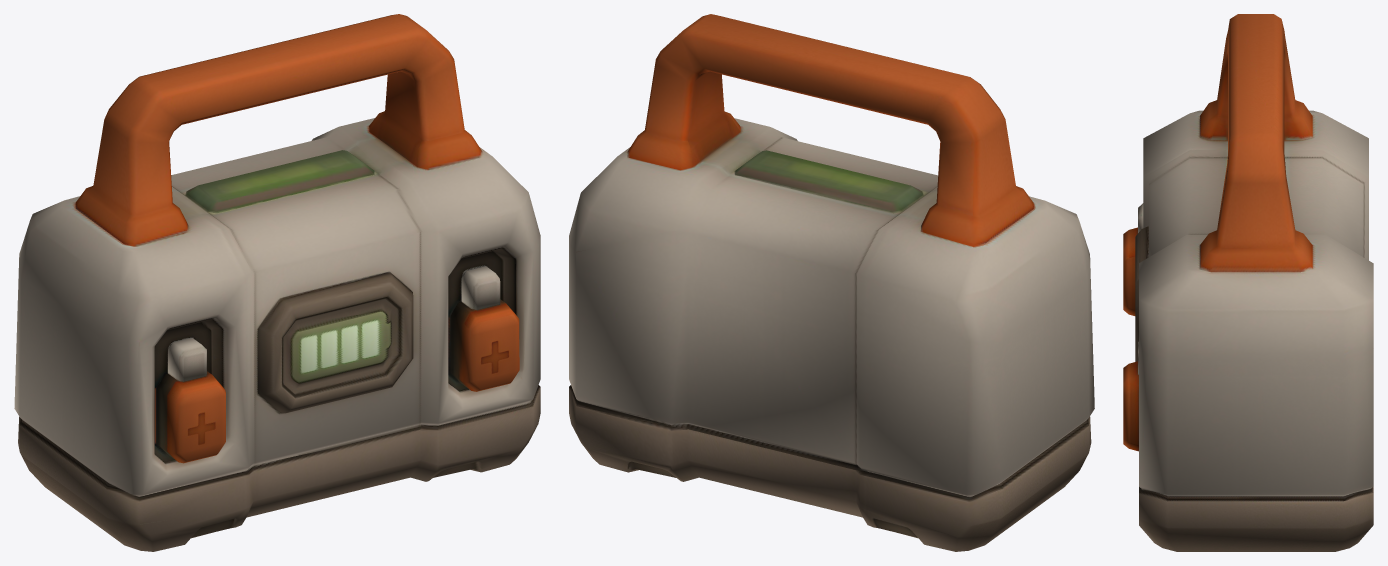
File: LSReal_PortableBattery.fbx
3 renders of one model, left to right at view 1: azimuth 30°, elevation 25°; view 2: azimuth 150°, elevation 25°; view 3: azimuth 270°, elevation 25°, orthographic. The views are drawn at different scales.
Visible parts, largest first — view 1: tripo_node_855bdd65-4397-47fd-85db-ce039b4dcbd4; view 2: tripo_node_855bdd65-4397-47fd-85db-ce039b4dcbd4; view 3: tripo_node_855bdd65-4397-47fd-85db-ce039b4dcbd4.
Part boxes in pixels (box(x1,y1,x2,y2)): tripo_node_855bdd65-4397-47fd-85db-ce039b4dcbd4: box(14, 14, 540, 551); tripo_node_855bdd65-4397-47fd-85db-ce039b4dcbd4: box(569, 14, 1094, 551); tripo_node_855bdd65-4397-47fd-85db-ce039b4dcbd4: box(1123, 14, 1373, 551).
Bounding box in the file's own units: 43.21 × 40 × 23.26.
1 material, 1 textured.
